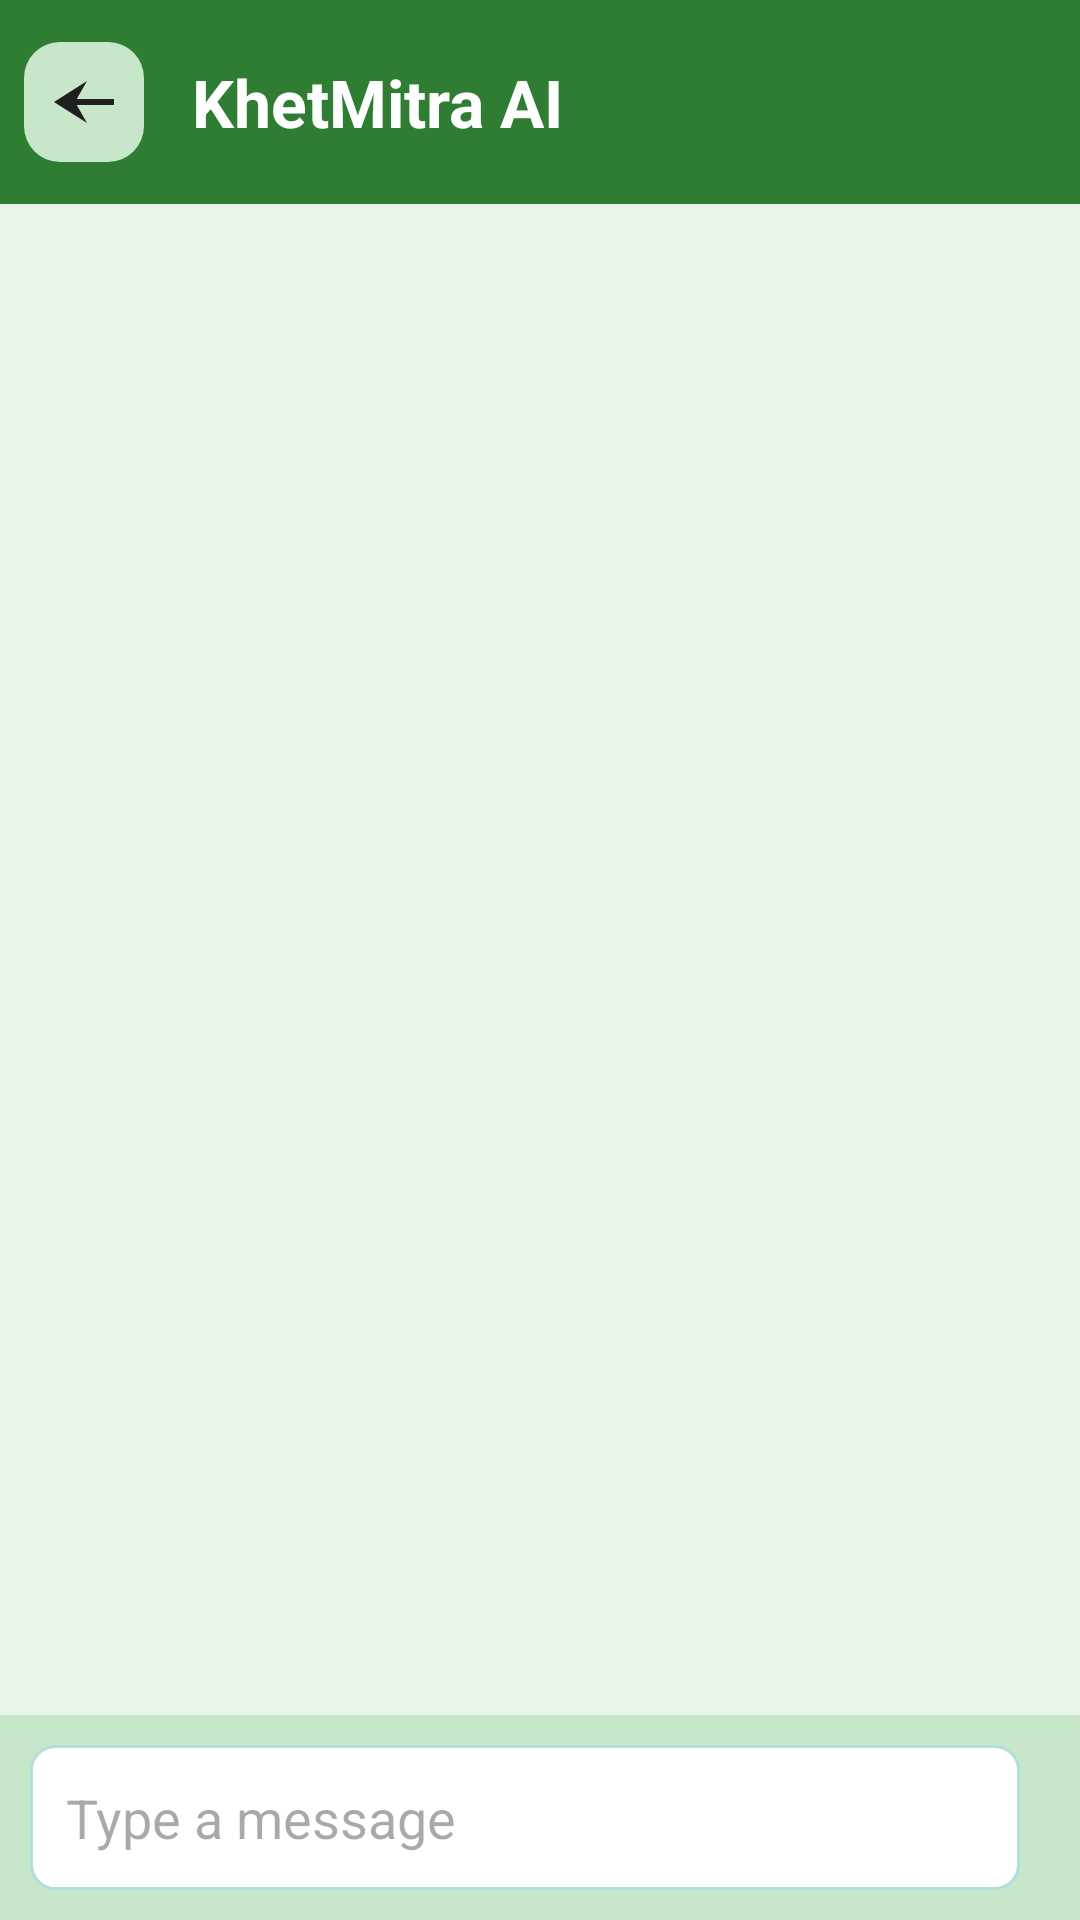

Icon bounding boxes for this 1080px x 1920px phone screenshot, format BBox(x1, y1, x2, y2):
Back: BBox(24, 42, 144, 162)
